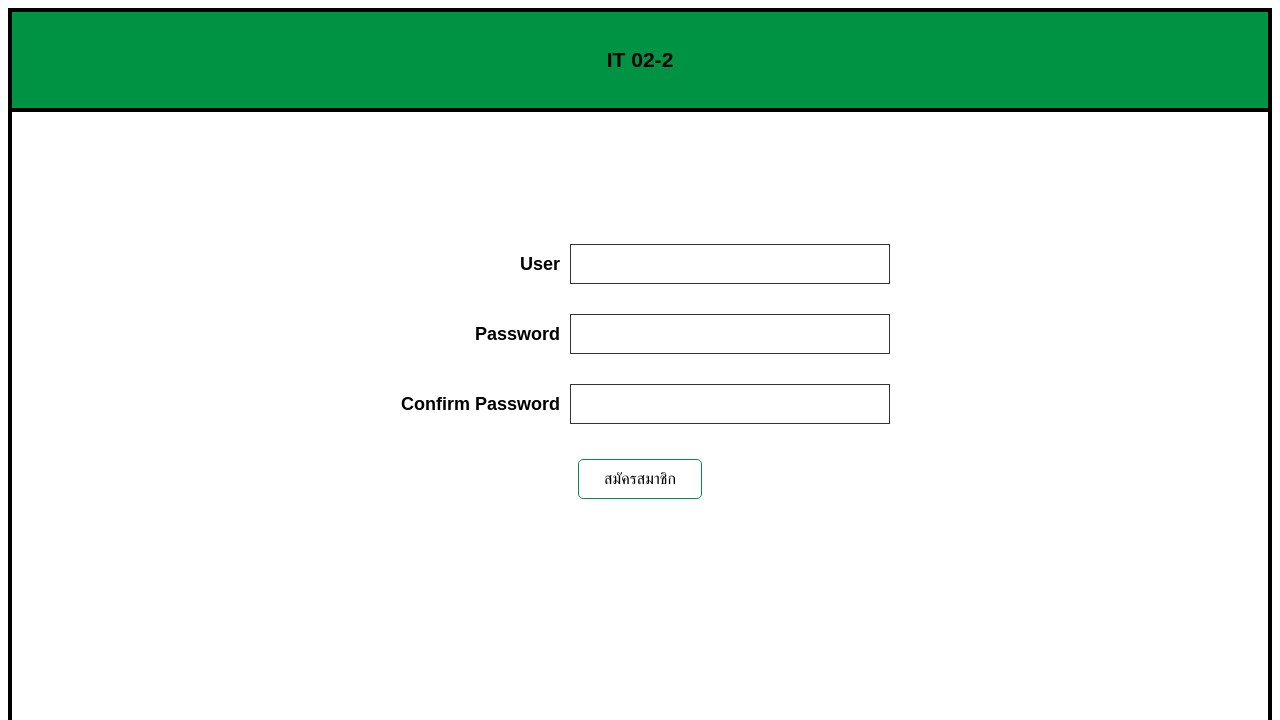
Test: Register.vue › สมัครไม่สำเร็จ (username ซ้ำ)
Type "user1" into the field.
click(730, 264); type("user1")  # box top-left (570, 244), bottom-right (890, 284)
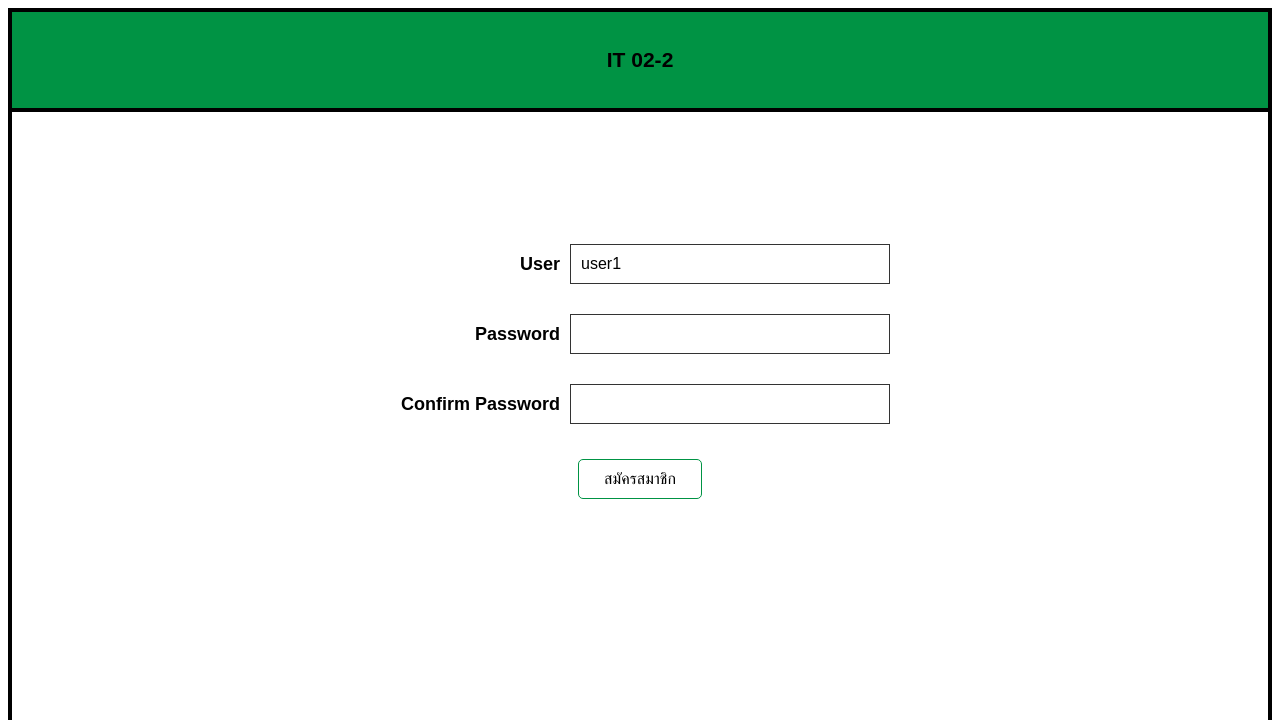
Type "123456" into the 1st password field.
click(730, 334); type("123456")  # box top-left (570, 314), bottom-right (890, 354)
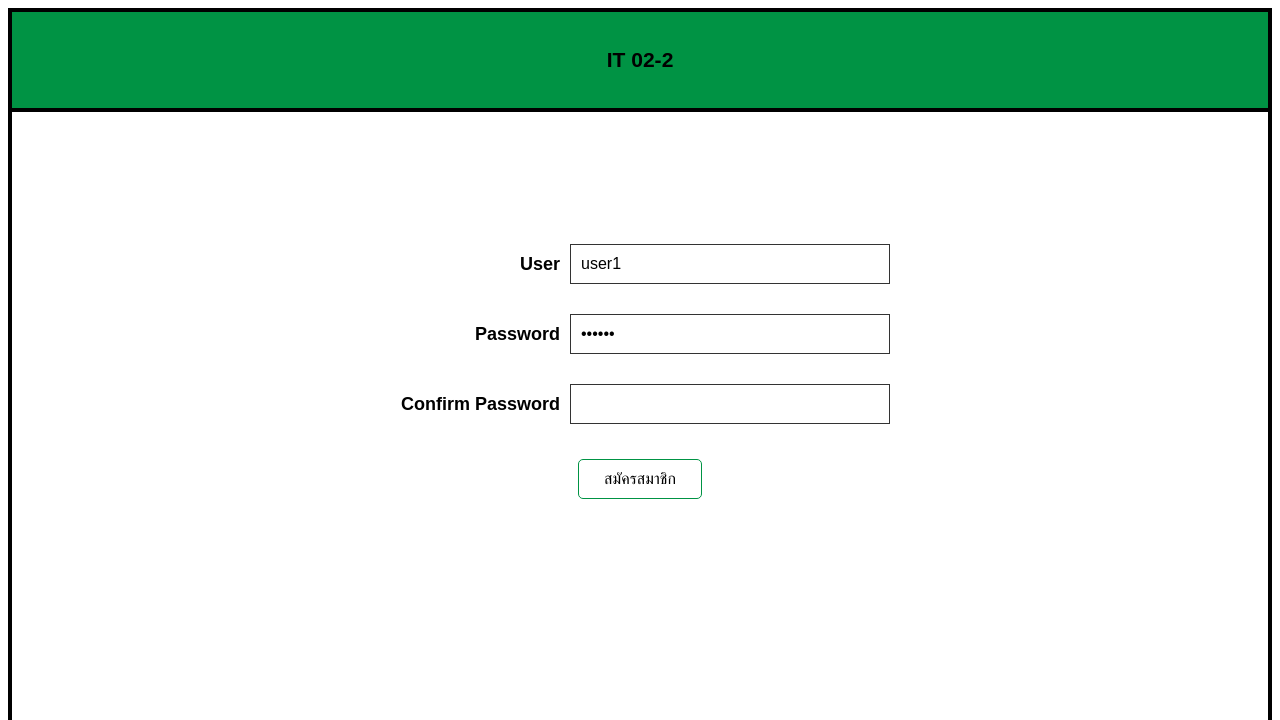
Type "123456" into the password field next to "Confirm Password".
click(730, 404); type("123456")  # box top-left (570, 384), bottom-right (890, 424)
(page scrolled)
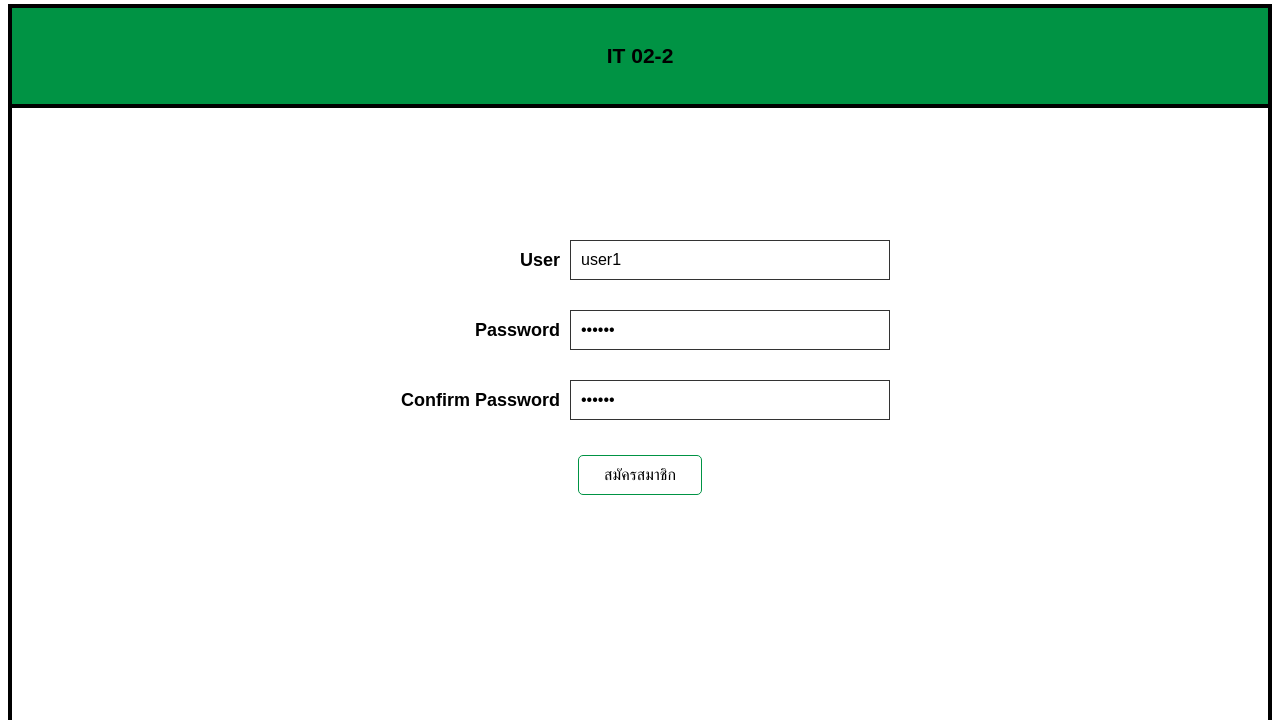
Submit the form, box top-left (401, 240), bottom-right (890, 495)
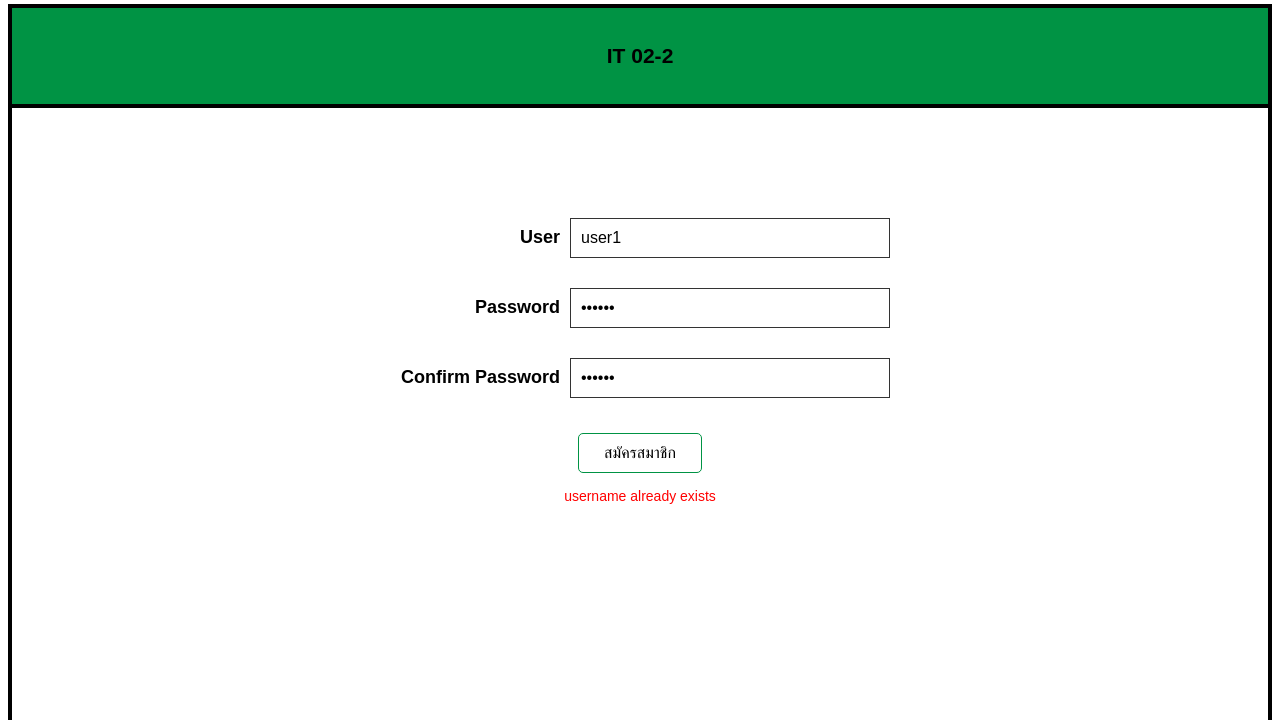
expect the text "username already exists" is shown: met, box top-left (564, 488), bottom-right (716, 504)
